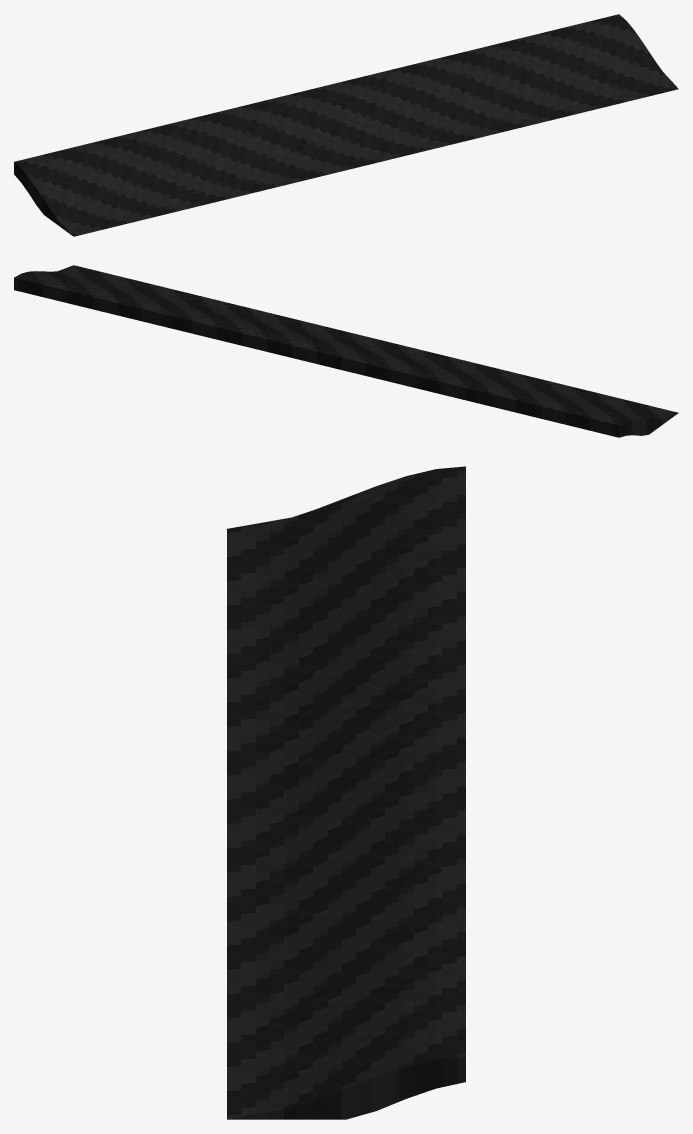
The model's file is wing_ducktail.obj.
3 views of the same model, one above another, from view 1: azimuth 30°, elevation 25°; view 2: azimuth 150°, elevation 25°; view 3: azimuth 270°, elevation 25° (orthographic). The views are drawn at different scales.
Size of the model in its own units: 1.52 by 0.075 by 0.26.
Materials: 1 (1 with a texture image).
